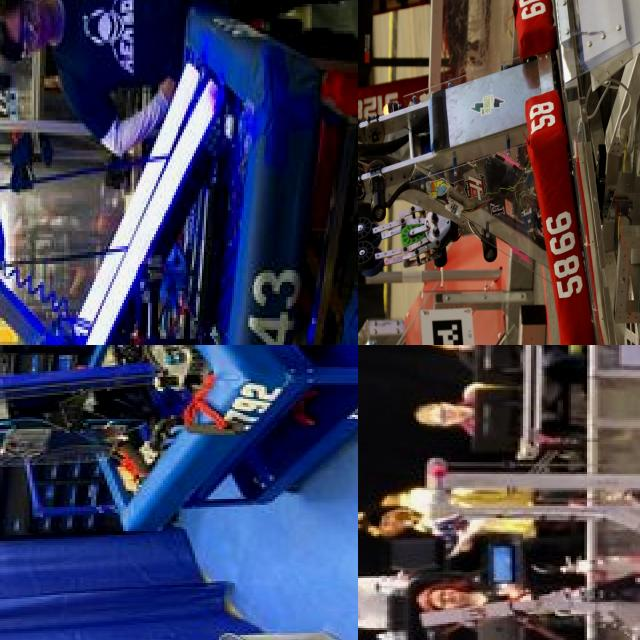FRC-Robots: (0, 0, 316, 345), (358, 0, 599, 345), (0, 345, 285, 524), (421, 412, 640, 640), (403, 564, 640, 640)
